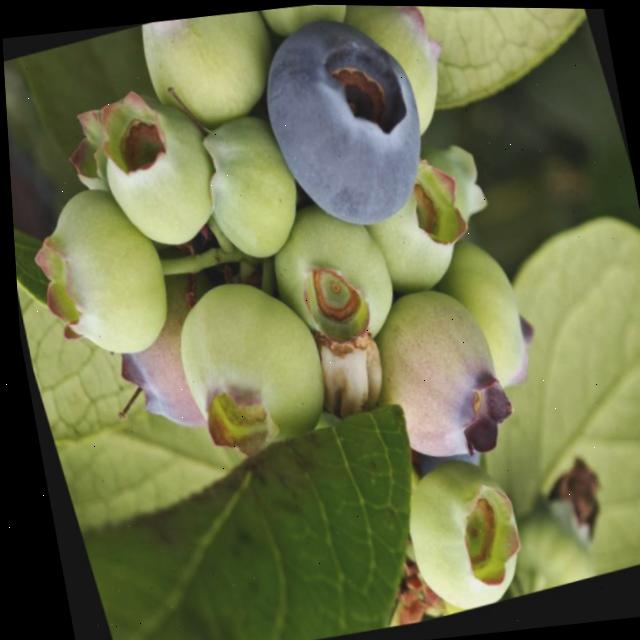RipeBlueBerry: (240, 3, 449, 250)
UnripeBlueBerry: (148, 257, 345, 489), (349, 272, 518, 481), (10, 173, 180, 375), (77, 73, 232, 263), (379, 449, 532, 625), (255, 191, 405, 365), (185, 102, 315, 272), (344, 149, 483, 307), (132, 6, 291, 141), (255, 3, 358, 48)
